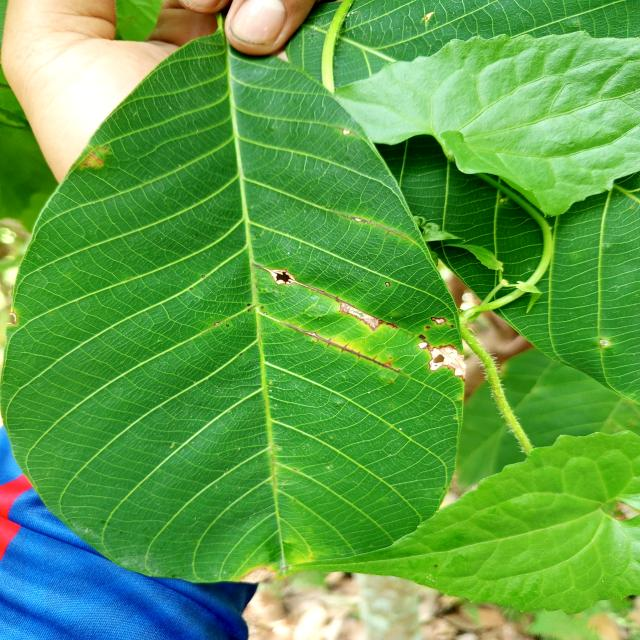Colletotrichum: (419, 335, 426, 339), (214, 322, 219, 326), (385, 282, 390, 286), (425, 326, 430, 329), (264, 312, 268, 315), (226, 324, 230, 327), (450, 325, 454, 328), (261, 306, 264, 309), (202, 275, 205, 278), (247, 304, 250, 306), (248, 310, 251, 312), (448, 367, 450, 369)
Corynespora: (254, 264, 398, 328), (282, 322, 404, 374), (342, 214, 408, 239)
Leaf-Blight: (429, 346, 466, 380), (342, 303, 378, 328), (240, 568, 275, 584)
